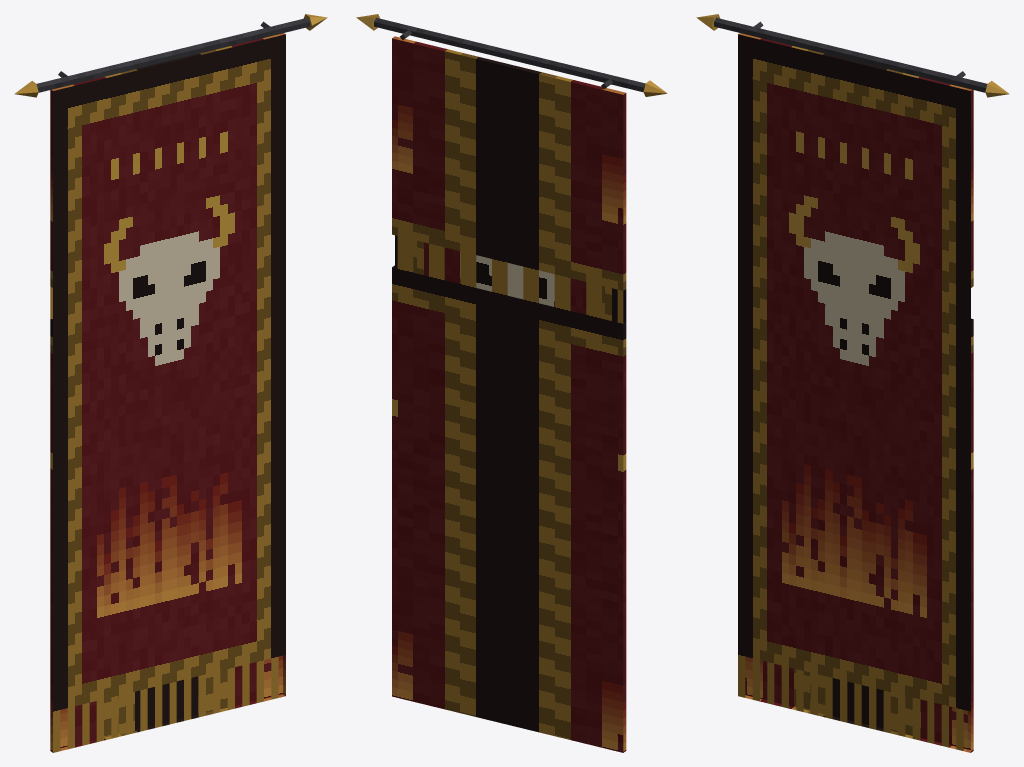
File: tapestry_horn.glb
3 renders of one model, left to right at view 1: azimuth 30°, elevation 25°; view 2: azimuth 150°, elevation 25°; view 3: azimuth 330°, elevation 25°, orthographic.
Visible parts, largest first — view 1: body; view 2: body; view 3: body.
Boxes of the visible parts, bbox=[...] form: body: bbox=[14, 14, 327, 752]; body: bbox=[356, 14, 667, 752]; body: bbox=[696, 14, 1009, 752].
Bounding box in the file's own units: 1.24 × 2.56 × 0.09.
Materials: 3 (3 with a texture image).
